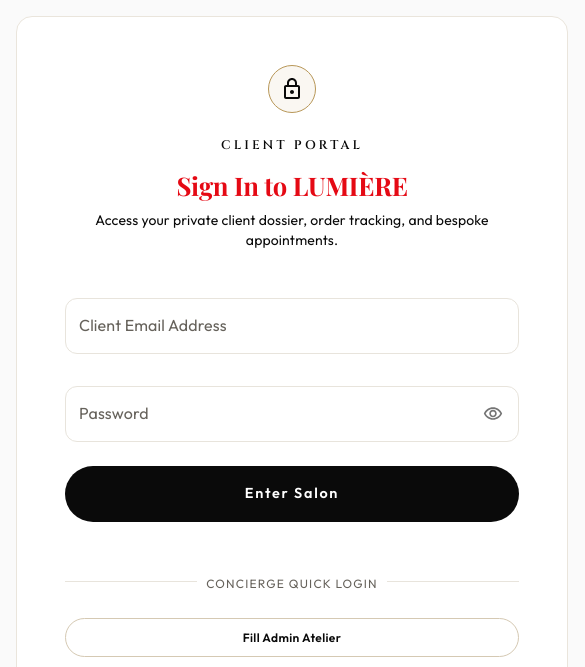
it: Stage 7B.5: Fail-Closed Authentication & Protected Route Security › 2. A network failure leaves the user unauthenticated and displays connection error
In the field labelled "Client Email Address": (292, 326) [65, 298, 519, 354], type "admin@ecommerce.com"
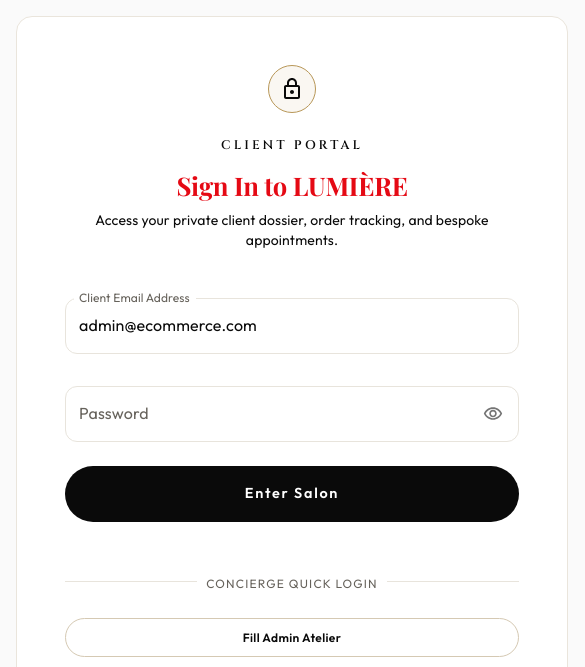
In the password field labelled "Password": (268, 414) [65, 386, 470, 442], type "admin123"
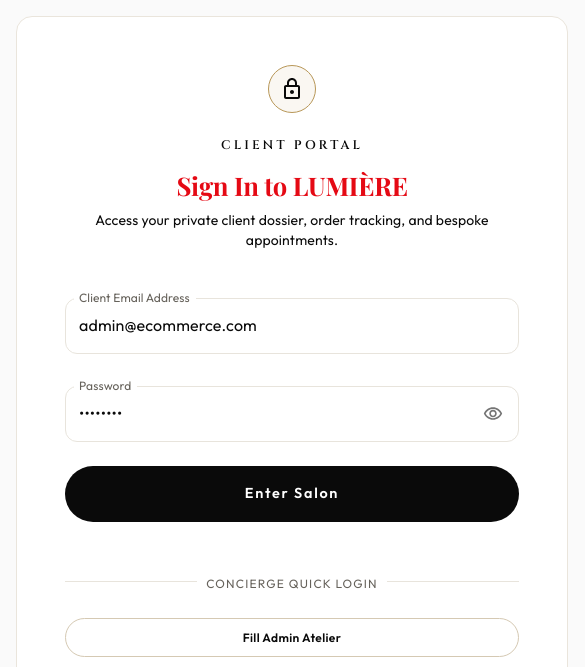
Click the button "Enter Salon": click(292, 494) [65, 466, 519, 522]
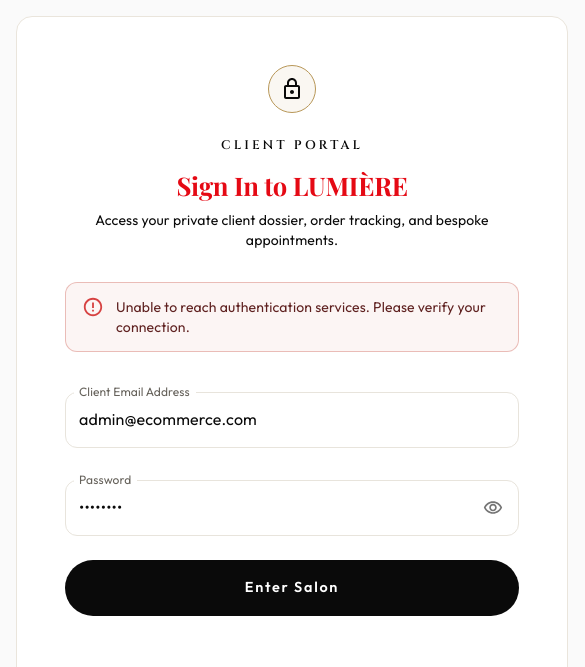
expect the text "Unable to reach authentication services" is shown: met, box [116, 298, 486, 336]
